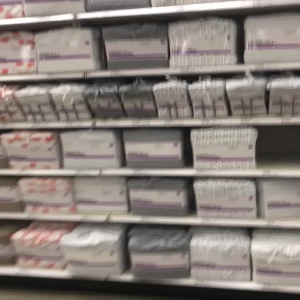void: (255, 124, 300, 173)
